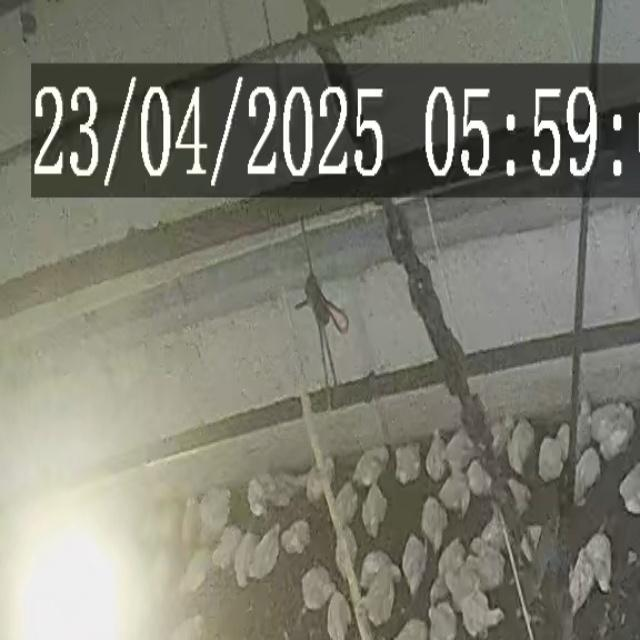chicken: (462, 589, 511, 638), (398, 530, 431, 600), (586, 526, 618, 596), (569, 445, 605, 504), (562, 548, 594, 612), (367, 564, 398, 630), (249, 524, 282, 584), (210, 524, 245, 580), (300, 564, 337, 613), (506, 419, 536, 478), (442, 426, 478, 475), (359, 481, 390, 537), (351, 446, 389, 490), (178, 549, 212, 597), (436, 469, 471, 515), (420, 496, 448, 552), (233, 529, 261, 585), (199, 487, 230, 535), (326, 589, 354, 640), (424, 430, 450, 484), (281, 515, 315, 556), (392, 443, 422, 485), (465, 458, 493, 502), (618, 460, 640, 516), (505, 477, 533, 519), (426, 603, 456, 640), (181, 496, 200, 548), (247, 475, 270, 516)
